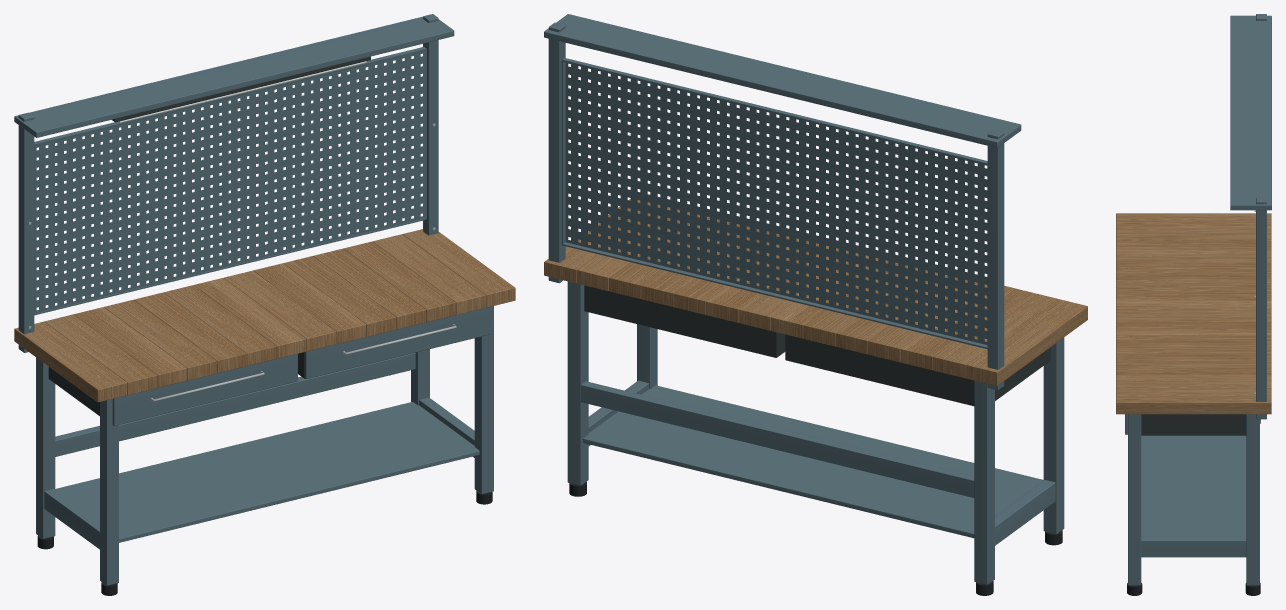
The model's file is garage-hutch-workbench.glb.
3 views of the same model, side by side, from view 1: azimuth 30°, elevation 25°; view 2: azimuth 150°, elevation 25°; view 3: azimuth 270°, elevation 25° (orthographic). The views are drawn at different scales.
Parts seen in each view (by area): view 1: catalog_surface_RealismUV, catalog_surface_UVMap; view 2: catalog_surface_RealismUV, catalog_surface_UVMap; view 3: catalog_surface_RealismUV, catalog_surface_UVMap.
Boxes of the visible parts, bbox=[...] form: catalog_surface_RealismUV: bbox=[14, 14, 493, 595]; catalog_surface_UVMap: bbox=[14, 229, 515, 402]; catalog_surface_RealismUV: bbox=[544, 14, 1064, 595]; catalog_surface_UVMap: bbox=[544, 199, 1087, 385]; catalog_surface_RealismUV: bbox=[1125, 14, 1271, 595]; catalog_surface_UVMap: bbox=[1116, 213, 1271, 414].
Bounding box in the file's own units: 1.83 × 1.8 × 0.635.
Materials: 7 (2 with a texture image).
